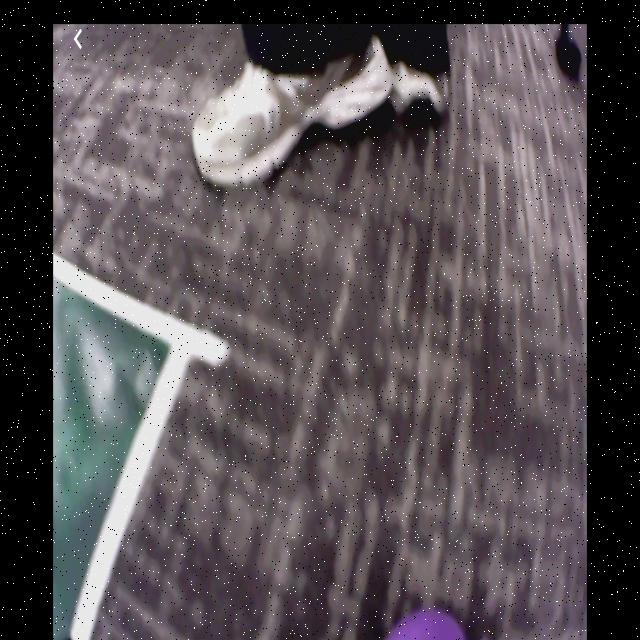ball: (382, 611, 472, 640)
